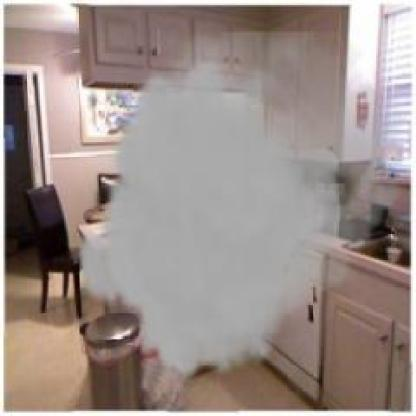Smoke: (75, 31, 414, 383)
